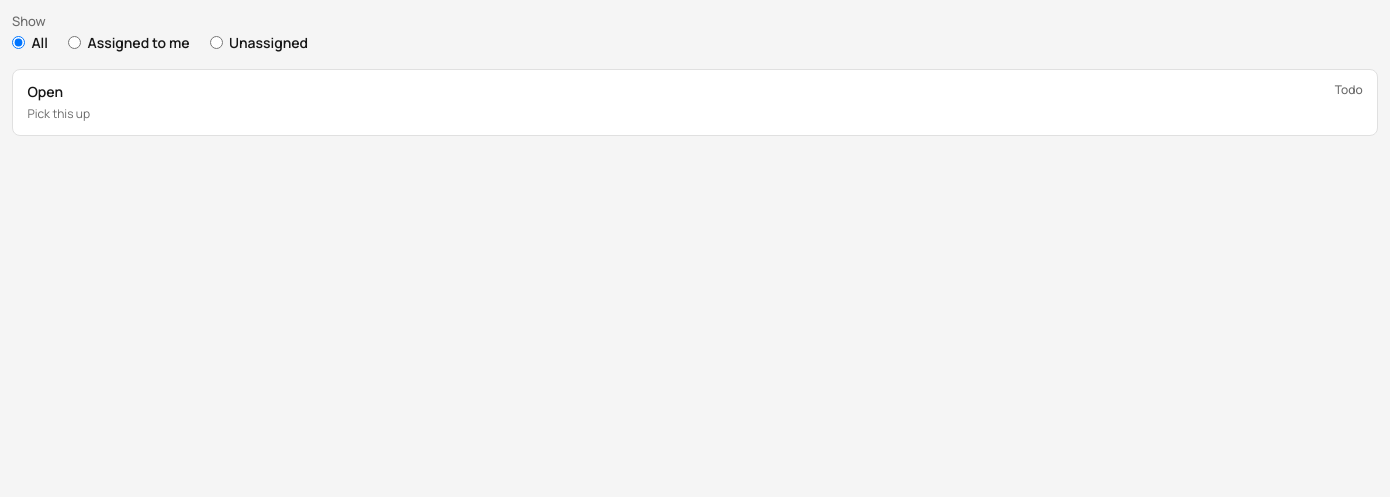
InboxList › opens a task detail with the edit form
The width and height of the screenshot is (1390, 497).
Click the button "Open Pick this up Todo": (45, 91) [13,70,1377,135]
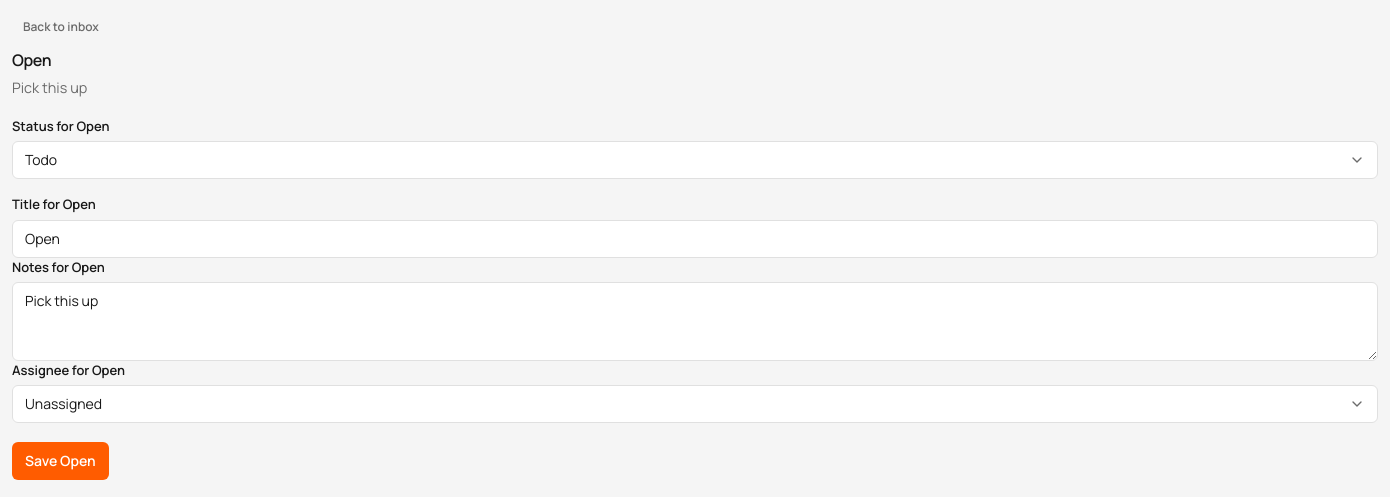
Now the button "Back to inbox" is shown, box [12,12,110,42]
Now the field labelled "Title for Open" is shown, box [12,220,1378,258]
